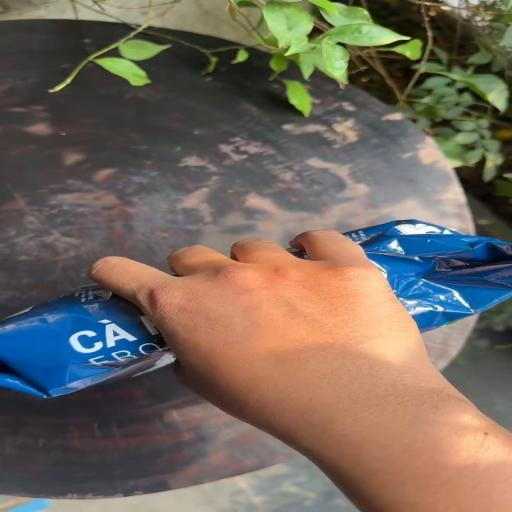cafe_hat: (0, 285, 174, 398), (343, 218, 511, 332)
